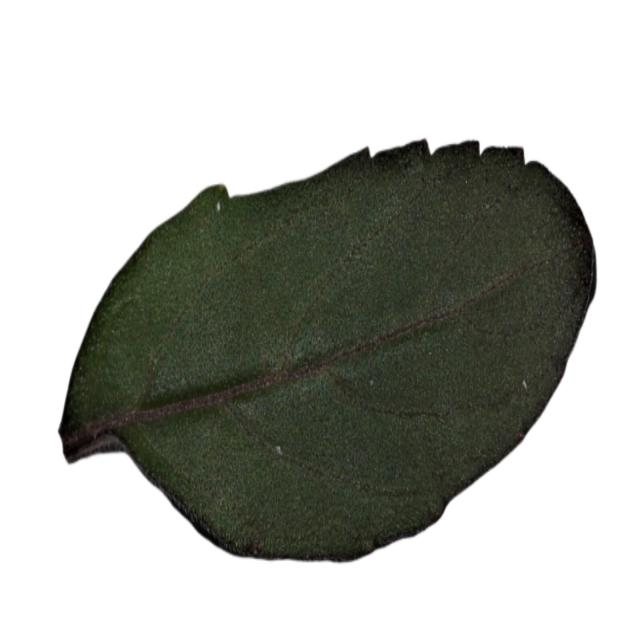tulsi: (54, 132, 596, 566)
